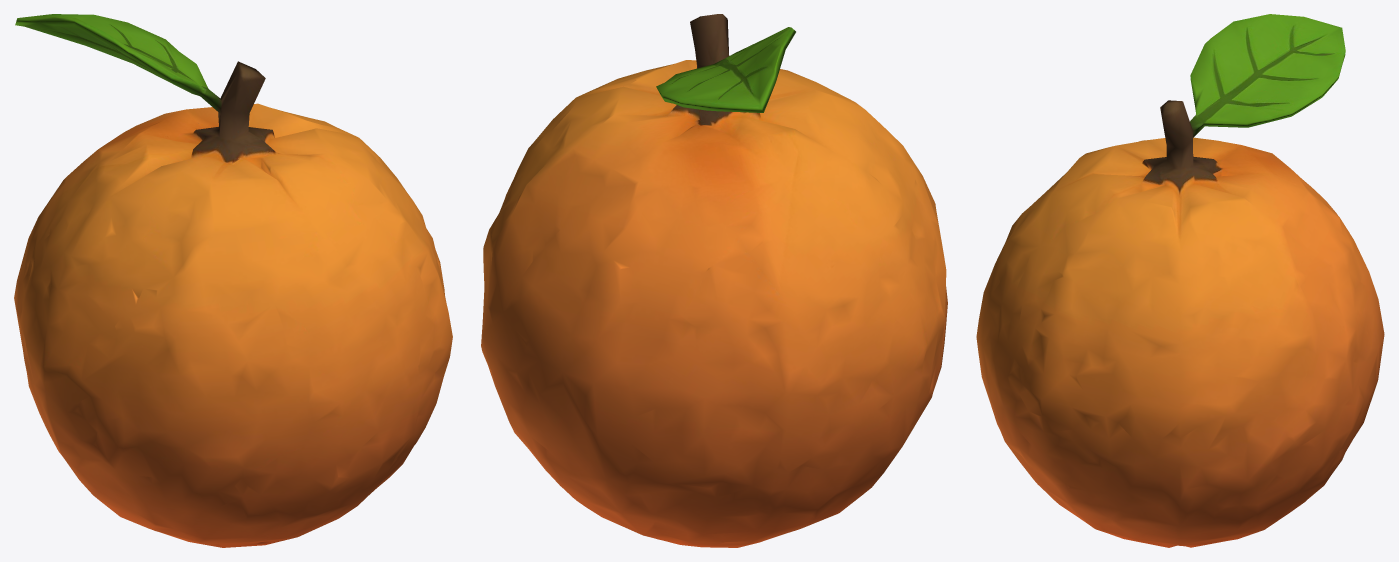
File: orange.glb
3 renders of one model, left to right at view 1: azimuth 30°, elevation 25°; view 2: azimuth 150°, elevation 25°; view 3: azimuth 270°, elevation 25°, orthographic. The views are drawn at different scales.
Parts seen in each view (by area): view 1: tripo_node_910a6f46-e04e-4fc5-9973-62aea0346019; view 2: tripo_node_910a6f46-e04e-4fc5-9973-62aea0346019; view 3: tripo_node_910a6f46-e04e-4fc5-9973-62aea0346019.
Boxes of the visible parts, bbox=[...] form: tripo_node_910a6f46-e04e-4fc5-9973-62aea0346019: bbox=[14, 14, 452, 547]; tripo_node_910a6f46-e04e-4fc5-9973-62aea0346019: bbox=[481, 14, 947, 547]; tripo_node_910a6f46-e04e-4fc5-9973-62aea0346019: bbox=[976, 14, 1384, 547].
Size of the model in its own units: 0.818 by 1 by 0.8103.
Materials: 1 (1 with a texture image).
